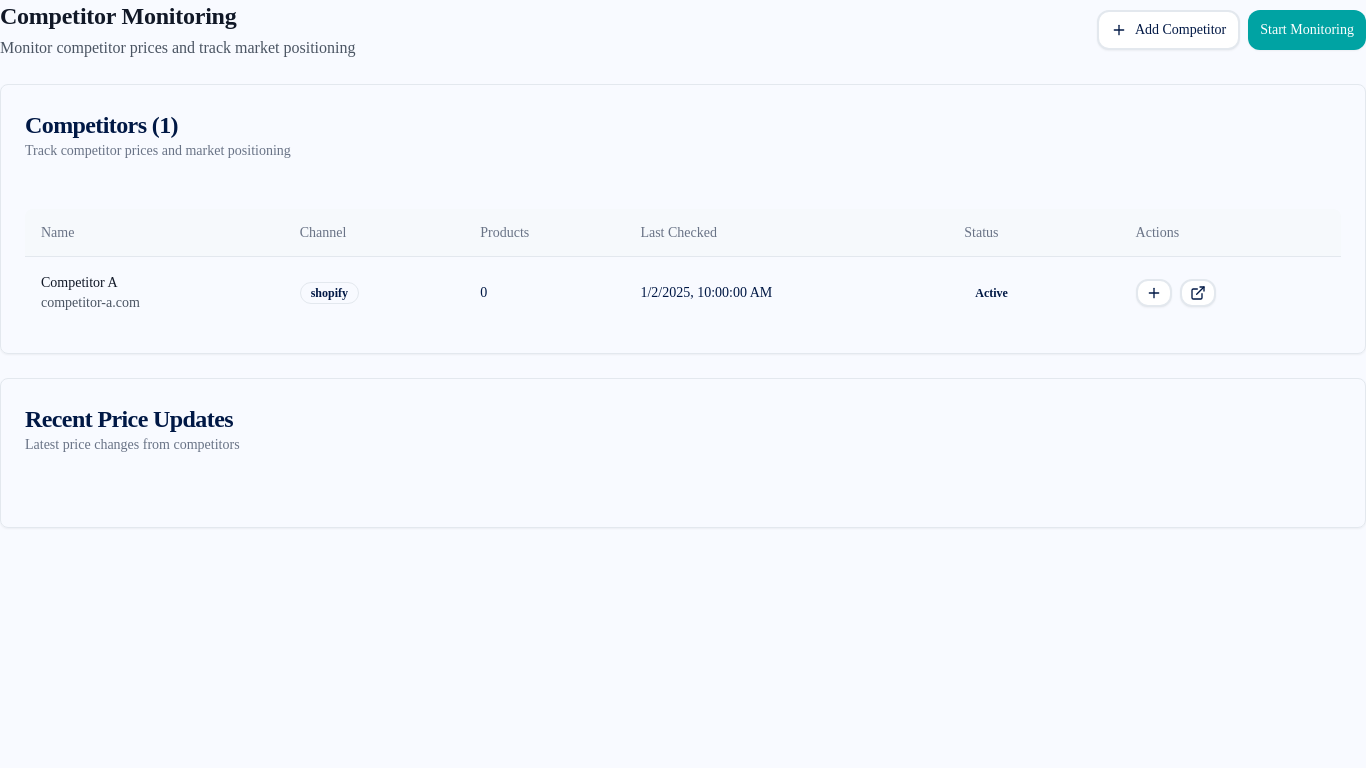
CompetitorMonitor › should show validation errors for invalid product form
This screenshot has width=1366, height=768.
Expected: the text "Competitor A" is shown, [41,275,118,290]
Note: Open add product modal
Click the 1st button titled "Add product to track": [1154, 293] box [1136,279,1172,307]
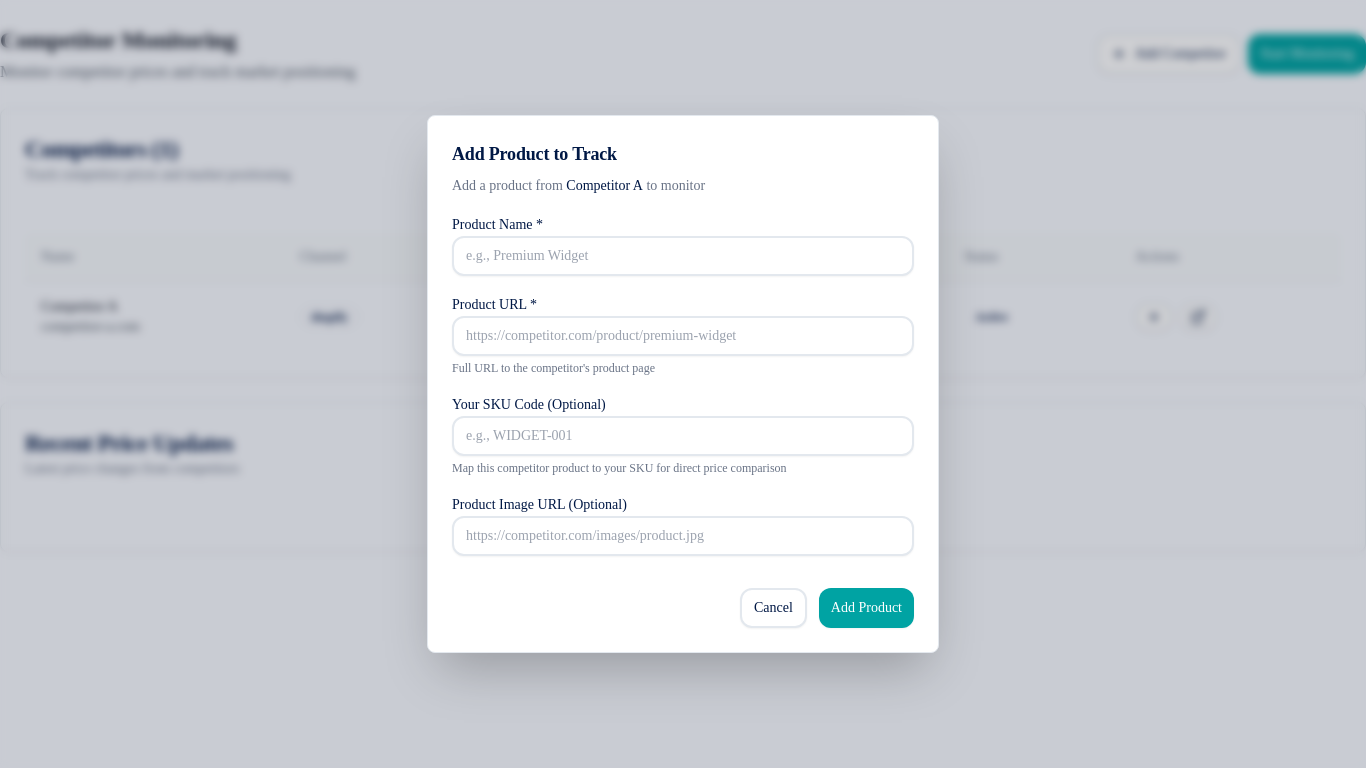
Result: the field labelled "Product Name *" is shown at [452,236,914,276]
Note: Submit without filling required fields
Click the button "Add Product": [866, 608] box [819,588,914,628]
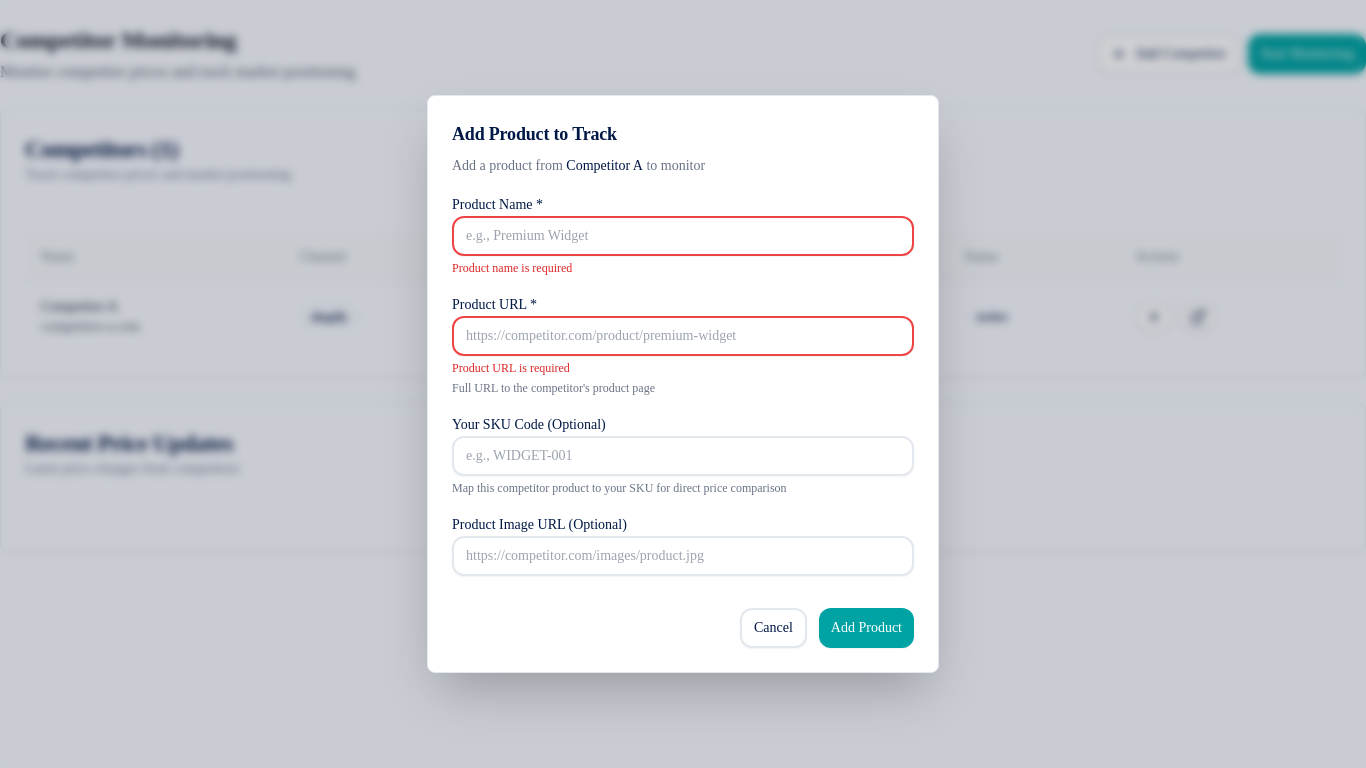
Result: the text "Product name is required" is shown at [452,261,572,275]
Result: the text "Product URL is required" is shown at [452,361,570,375]
